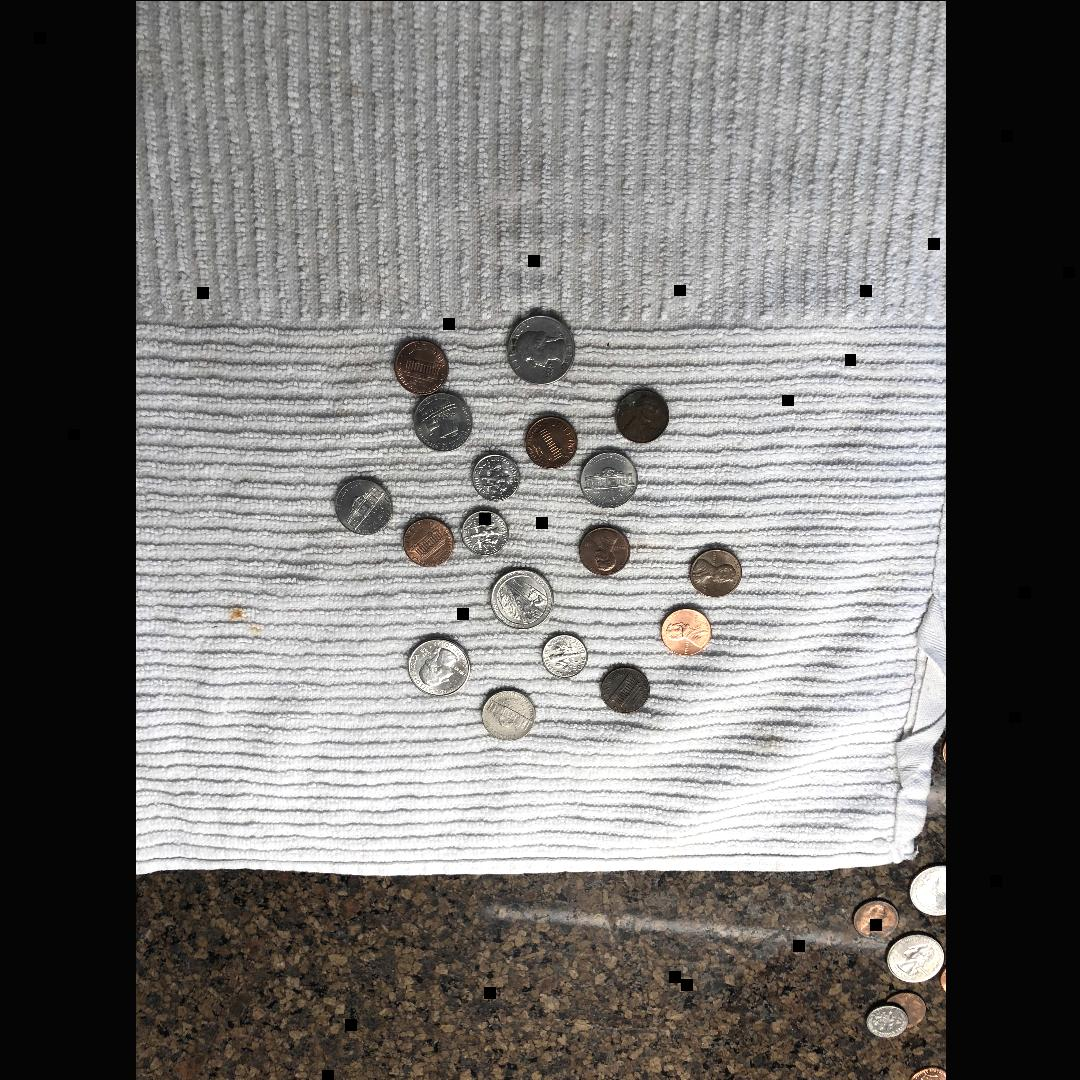Dime: (466, 448, 520, 504), (458, 504, 508, 558), (540, 632, 586, 678)
Nickel: (410, 386, 470, 452), (578, 448, 638, 510), (333, 475, 392, 536), (480, 686, 532, 742)
Penny: (388, 334, 450, 392), (522, 410, 578, 469), (612, 386, 667, 444), (398, 514, 454, 568), (576, 520, 630, 576), (688, 544, 742, 598), (660, 607, 711, 659), (599, 664, 647, 716)
Quarter: (503, 310, 575, 384), (405, 634, 469, 696), (490, 569, 552, 627)
